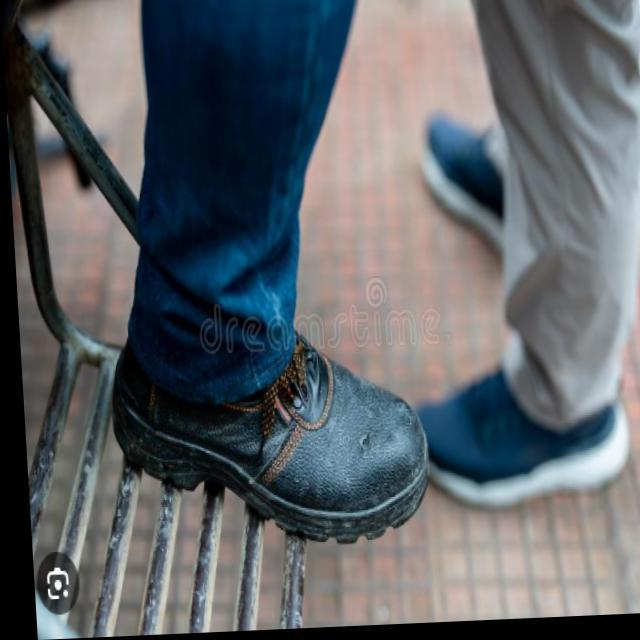shoes: (96, 199, 439, 561)
